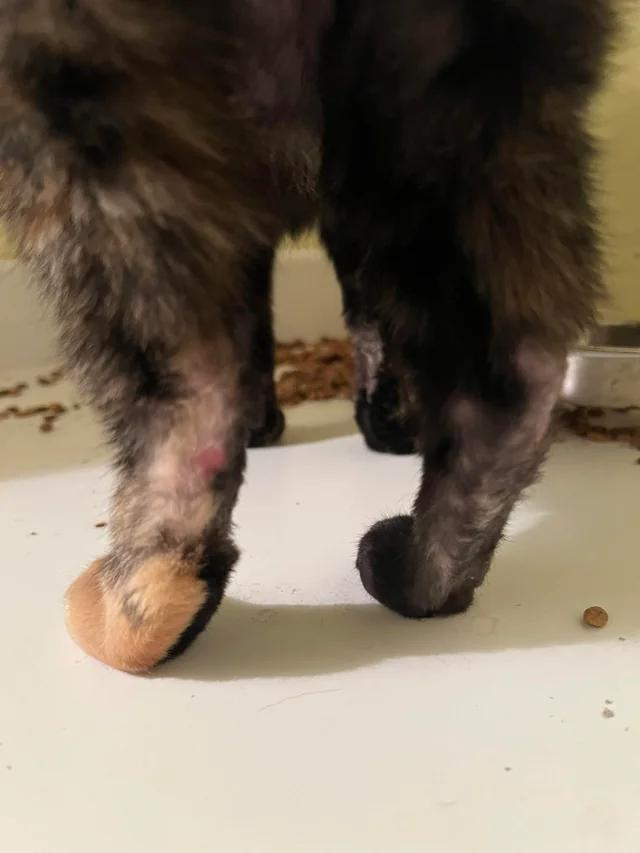hairloss: (172, 376, 220, 563), (519, 361, 562, 448)
